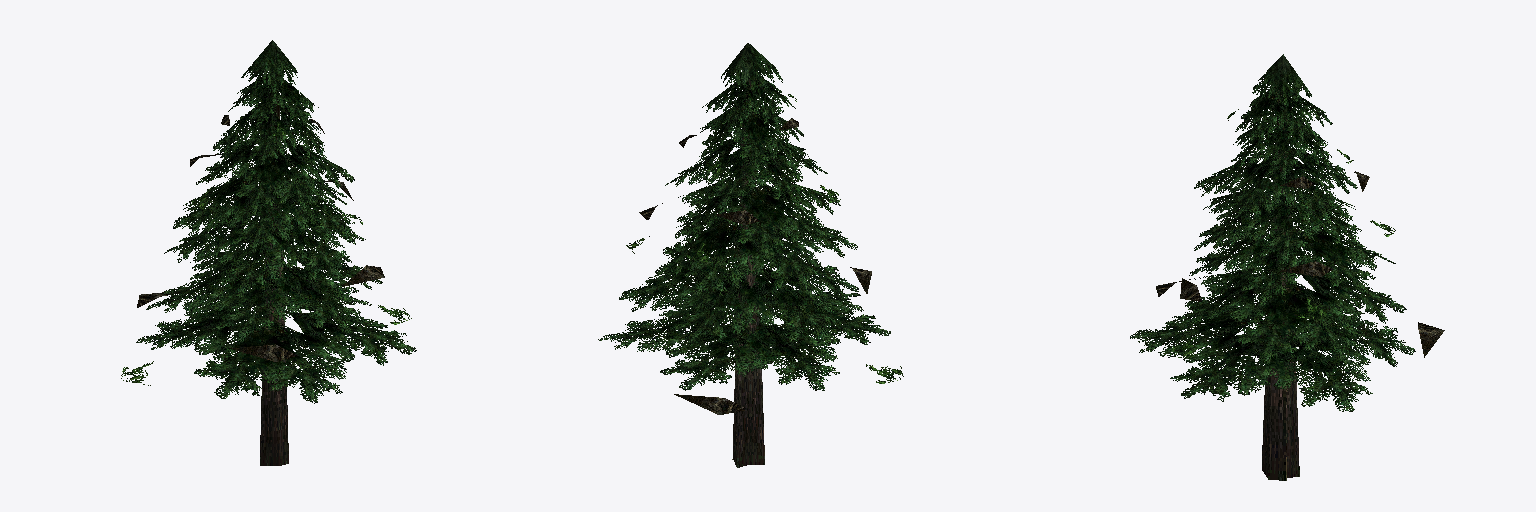
The picture shows the model from 3 angles: view 1: azimuth 30°, elevation 25°; view 2: azimuth 150°, elevation 25°; view 3: azimuth 270°, elevation 25°; orthographic projection.
Visible parts, largest first — view 1: tree_pine_02_tree_pine_02-Geometry; view 2: tree_pine_02_tree_pine_02-Geometry; view 3: tree_pine_02_tree_pine_02-Geometry.
Part boxes in pixels (x1,y1,x2,y2): tree_pine_02_tree_pine_02-Geometry: (121,40,416,465); tree_pine_02_tree_pine_02-Geometry: (598,43,903,467); tree_pine_02_tree_pine_02-Geometry: (1130,54,1444,480).
Bounding box in the file's own units: 16.57 × 24.48 × 17.37.
Materials: 1 (1 with a texture image).